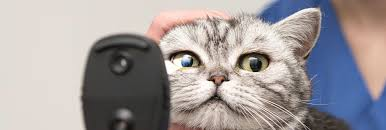Gato: (159, 9, 324, 130)
